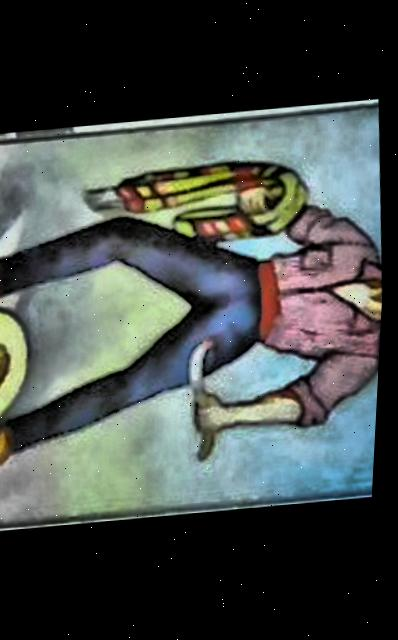El Valiente: (0, 112, 385, 530)
